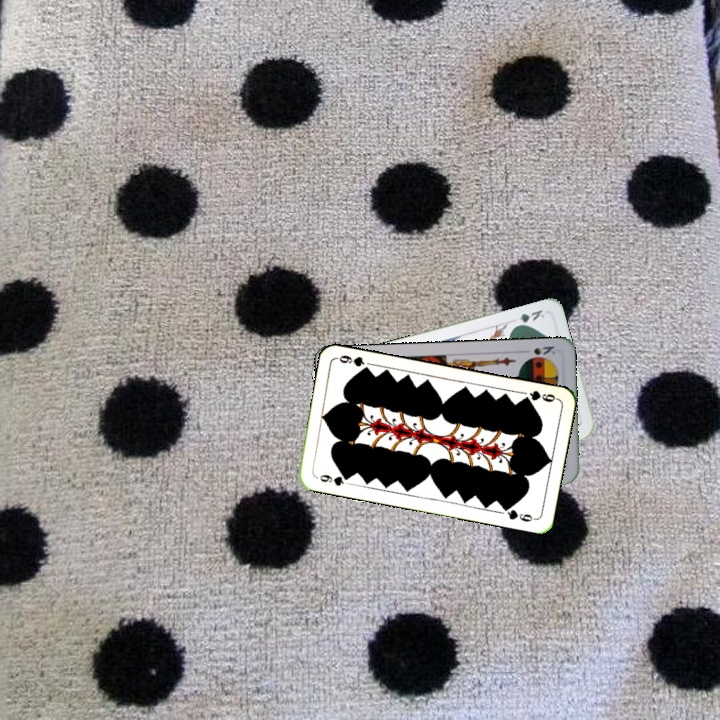G9: (518, 386, 560, 405), (312, 470, 353, 489)
GK: (510, 305, 547, 330)
SK: (518, 342, 558, 358)
